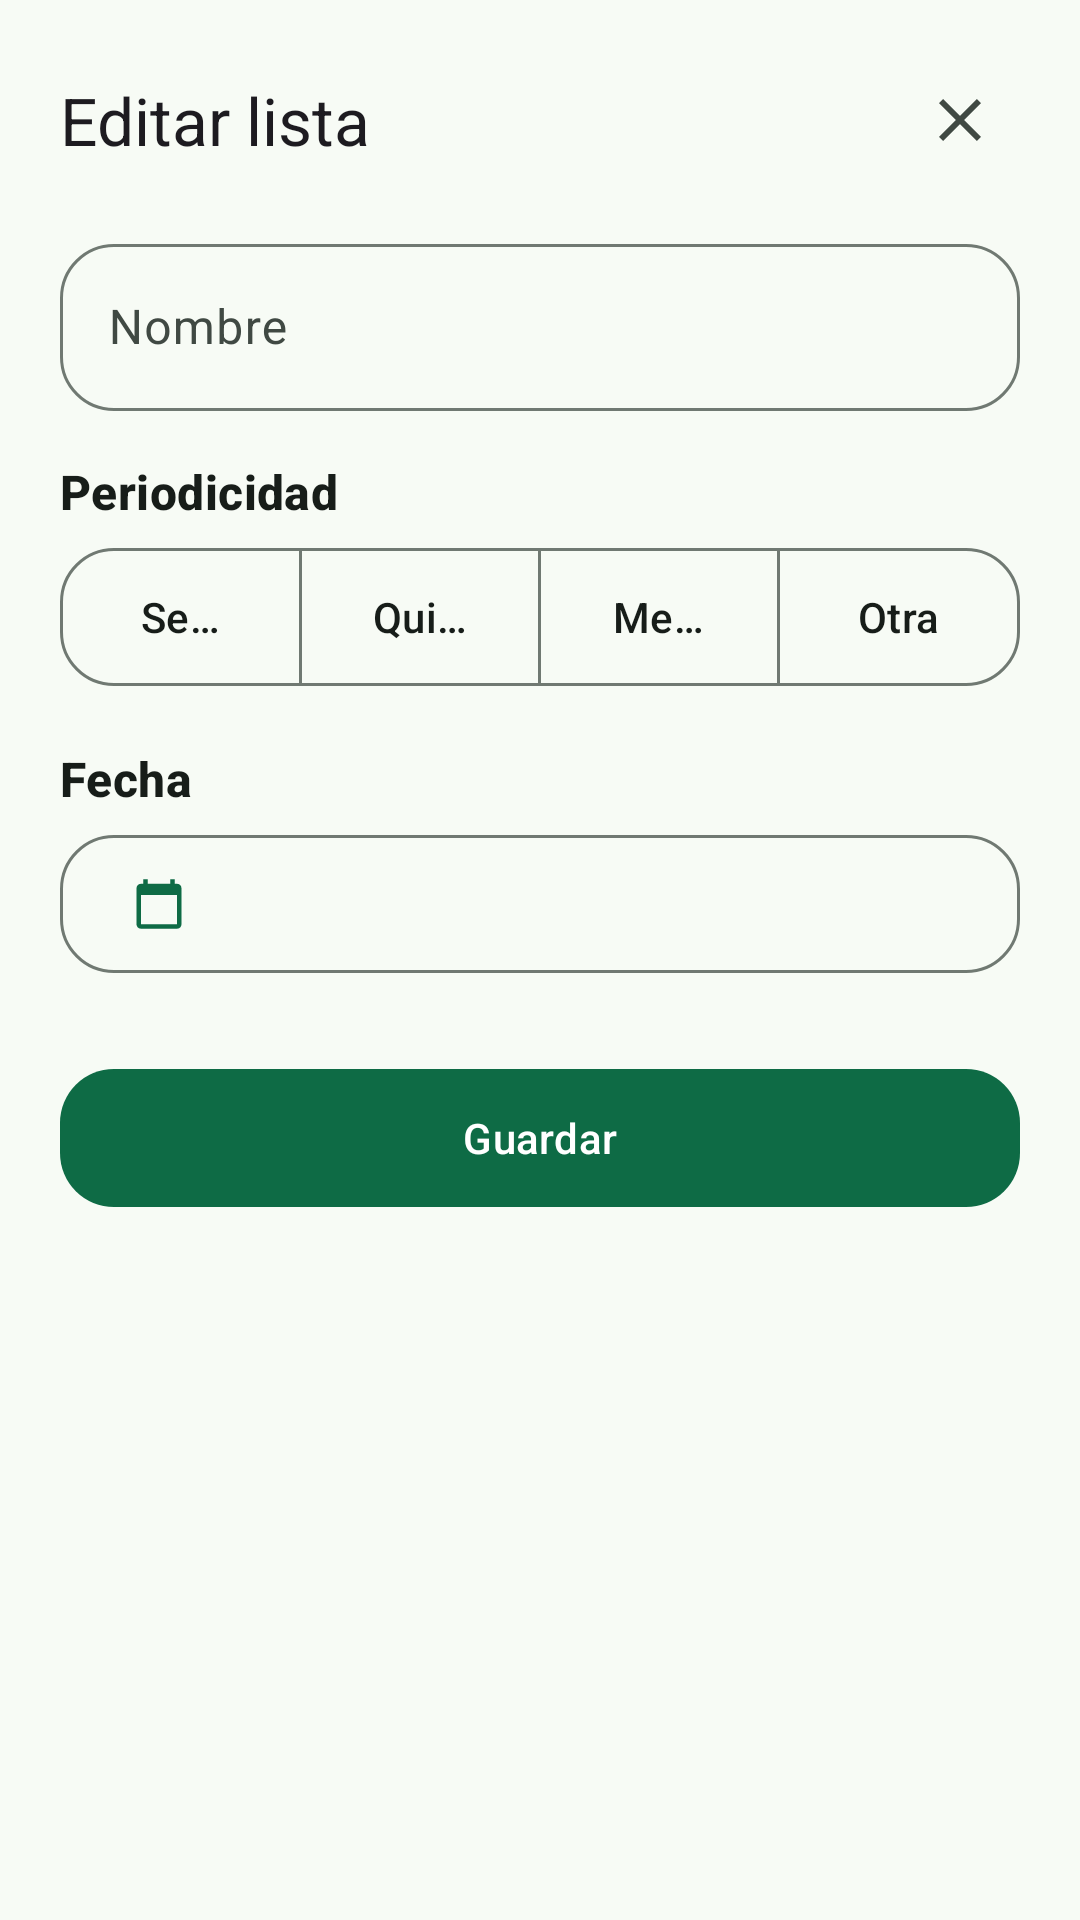

Screen size 1080 × 1920. Icon name, then its box in pixels as (x1, y1, x2, y2):
Cerrar: (939, 99, 981, 141)
